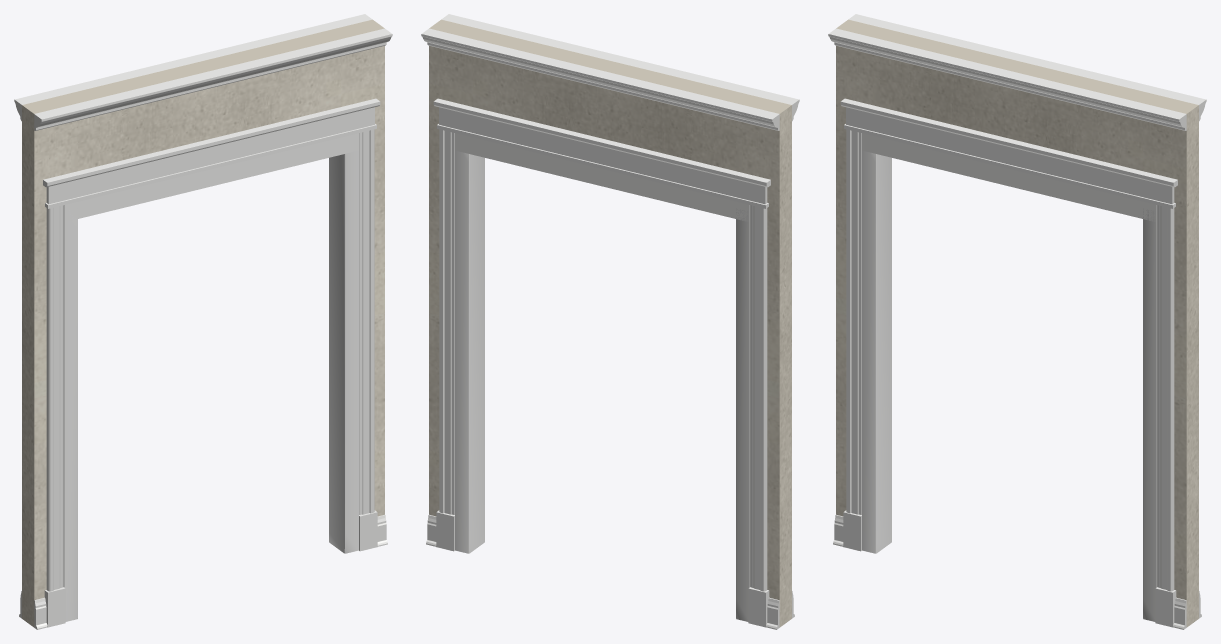
The model's file is interior_wall_wide.glb.
3 renders of one model, left to right at view 1: azimuth 30°, elevation 25°; view 2: azimuth 150°, elevation 25°; view 3: azimuth 330°, elevation 25°, orthographic.
Visible parts, largest first — view 1: interior_wall_wide_plaster, molduras, interior_wall_wide_frame; view 2: interior_wall_wide_plaster, molduras, interior_wall_wide_frame; view 3: interior_wall_wide_plaster, molduras, interior_wall_wide_frame.
Boxes of the visible parts, box(x1,y1,x2,y2) form: interior_wall_wide_plaster: box(22, 19, 384, 627); molduras: box(14, 14, 392, 629); interior_wall_wide_frame: box(63, 133, 358, 621); interior_wall_wide_plaster: box(429, 19, 791, 627); molduras: box(421, 14, 799, 629); interior_wall_wide_frame: box(455, 133, 750, 621); interior_wall_wide_plaster: box(836, 19, 1198, 627); molduras: box(828, 14, 1206, 629); interior_wall_wide_frame: box(862, 133, 1157, 621).
Size of the model in its own units: 2 by 2.8 by 0.27.
3 materials, 1 textured.
